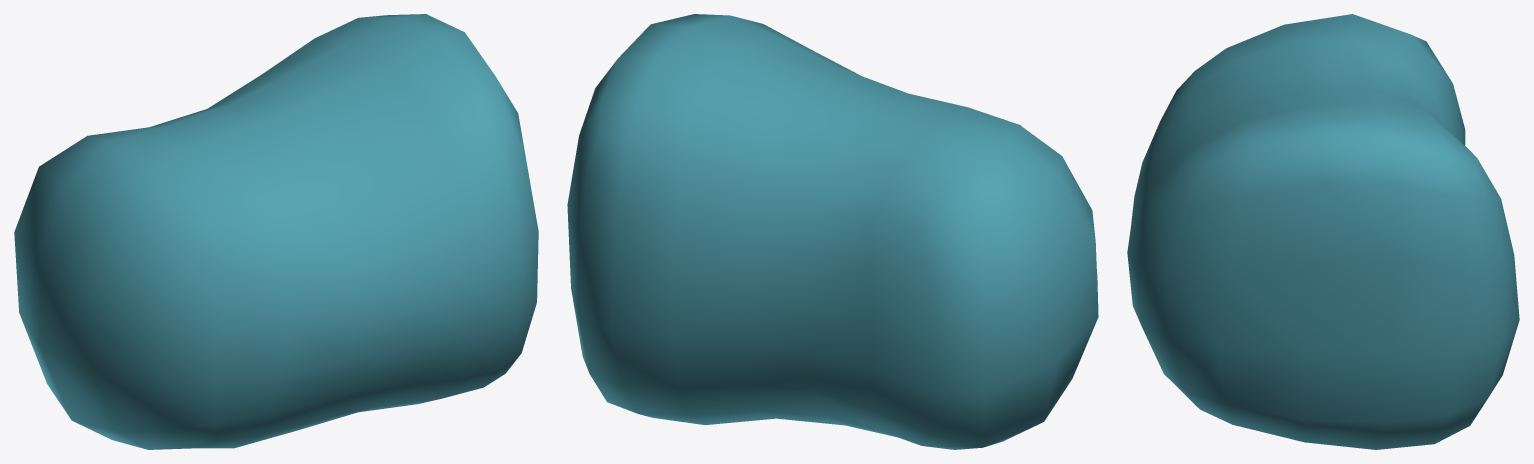
Rendered from VIS_Alpha_Surface_040.dae.
3 views of the same model, side by side, from view 1: azimuth 30°, elevation 25°; view 2: azimuth 150°, elevation 25°; view 3: azimuth 270°, elevation 25° (orthographic). The views are drawn at different scales.
Visible parts, largest first — view 1: VIS_Alpha_Surface_040; view 2: VIS_Alpha_Surface_040; view 3: VIS_Alpha_Surface_040.
Boxes of the visible parts, x1,y1,x2,y2 form: VIS_Alpha_Surface_040: (14,14,538,449); VIS_Alpha_Surface_040: (567,14,1098,449); VIS_Alpha_Surface_040: (1127,14,1519,449).
Bounding box in the file's own units: 3.47 × 2.76 × 2.6.
